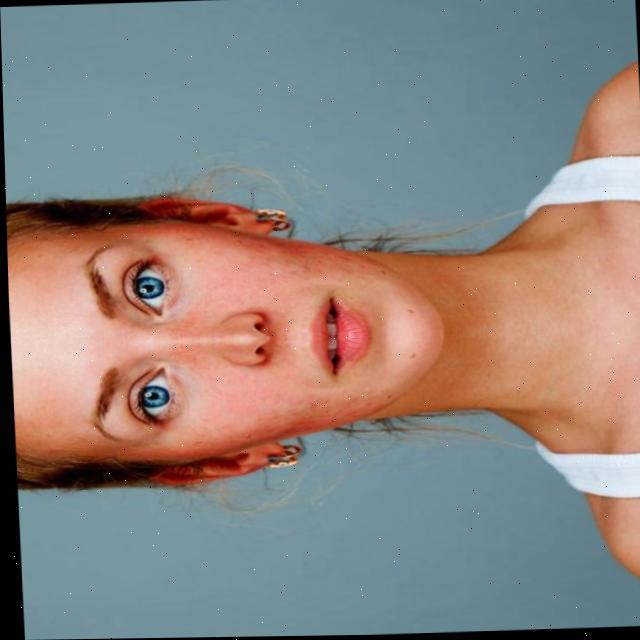Rosacea: (176, 229, 365, 482)
